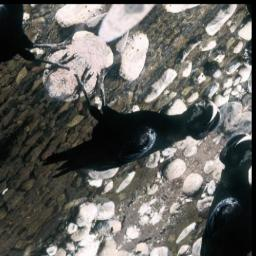Crow: (12, 24, 230, 236)
